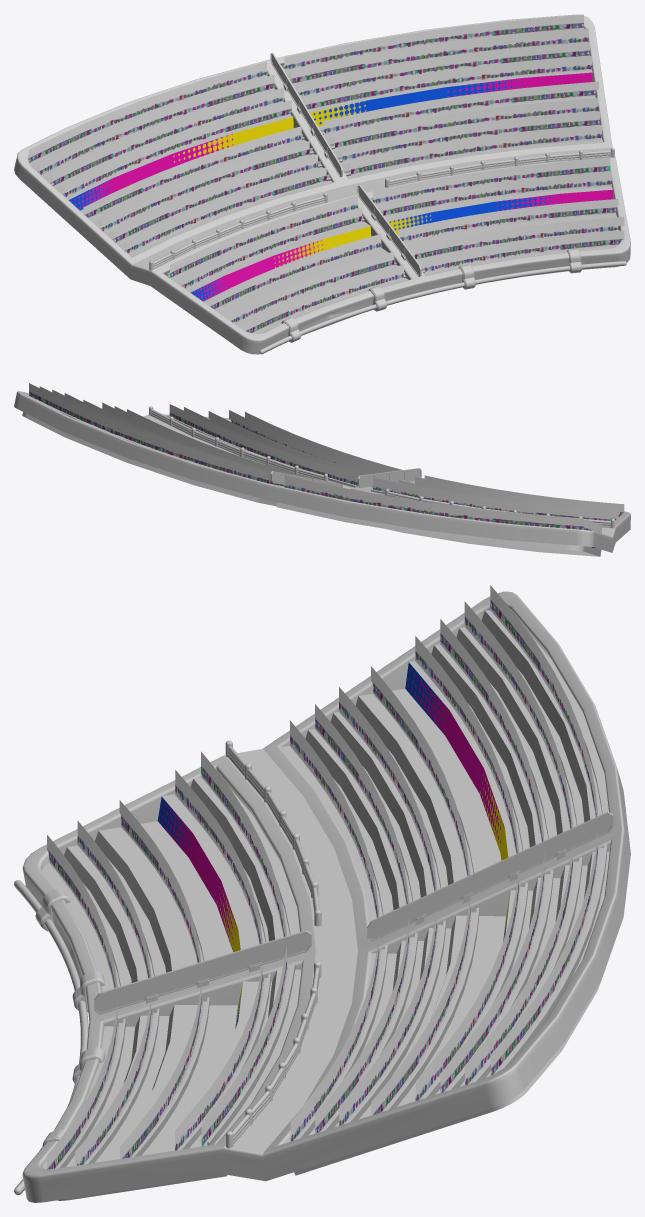
File: stand_001.fbx
The picture shows the model from 3 angles, top to bottom: view 1: azimuth 30°, elevation 25°; view 2: azimuth 150°, elevation 25°; view 3: azimuth 270°, elevation 25°; orthographic projection. The views are drawn at different scales.
Parts seen in each view (by area): view 1: stand_001; view 2: stand_001; view 3: stand_001.
Part boxes in pixels (x1,y1,x2,y2): stand_001: (14, 14, 630, 354); stand_001: (14, 383, 630, 556); stand_001: (14, 585, 630, 1202).
Bounding box in the file's own units: 23595 × 12617 × 5296.
